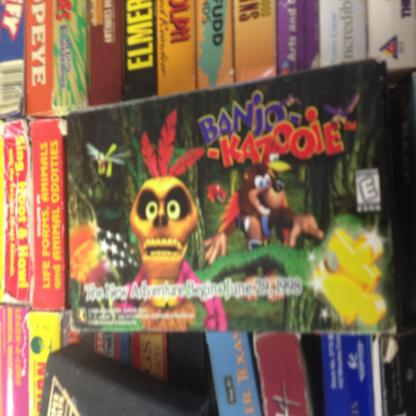book: (0, 0, 416, 416), (0, 305, 31, 415)
